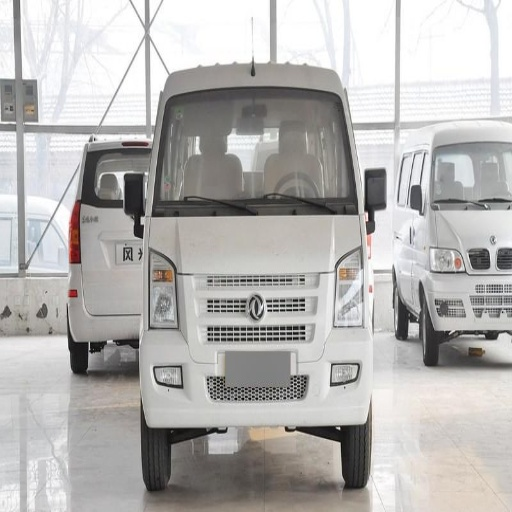front_bumper: (151, 296, 396, 423)
hood: (186, 216, 360, 296)
trunk: (78, 209, 259, 377)
